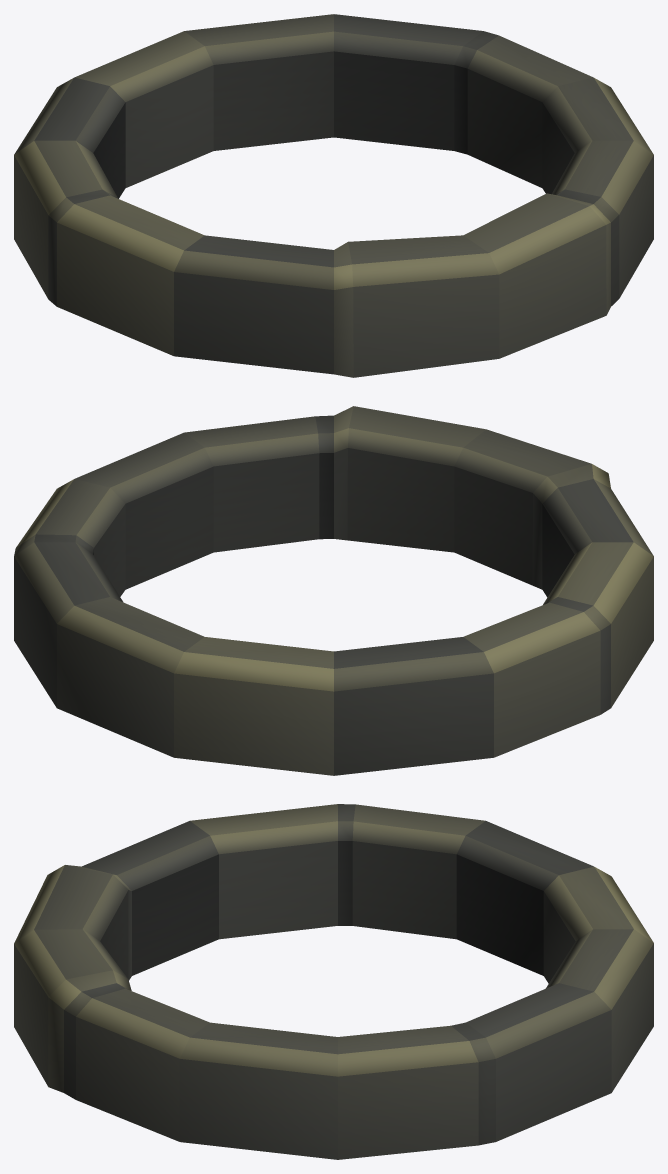
The model's file is stone_ring.fbx.
The picture shows the model from 3 angles, top to bottom: view 1: azimuth 30°, elevation 25°; view 2: azimuth 150°, elevation 25°; view 3: azimuth 270°, elevation 25°; orthographic projection.
Parts seen in each view (by area): view 1: stone_ring; view 2: stone_ring; view 3: stone_ring.
Boxes of the visible parts, x1,y1,x2,y2 form: stone_ring: [14, 14, 653, 377]; stone_ring: [14, 406, 653, 775]; stone_ring: [14, 804, 653, 1159].
Bounding box in the file's own units: 102 × 18.4 × 103.
